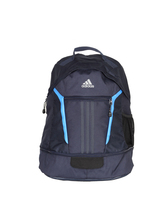bag: (30, 38, 144, 184)
